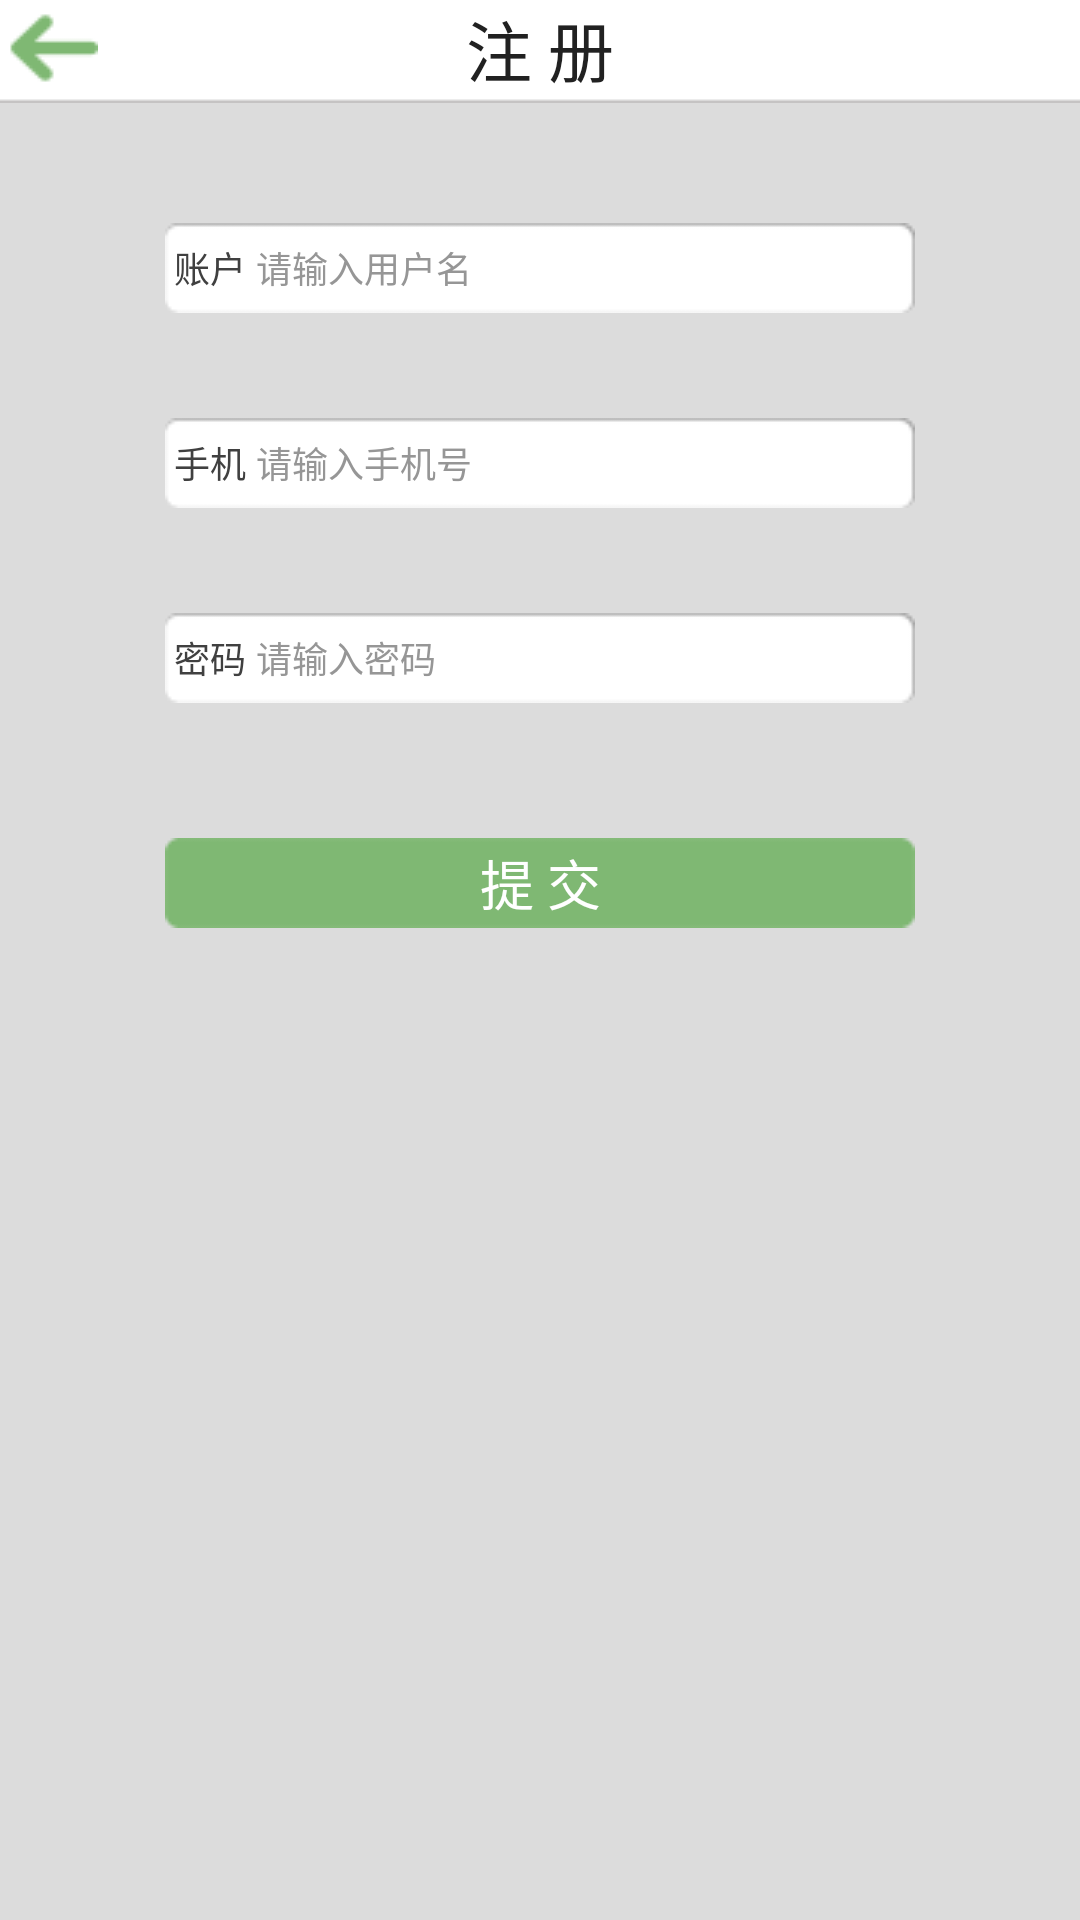

Point at icon controls on the screen. Image size 1080×1920, points as point (x, y).
navigationbar backbutton: point (54, 48)
